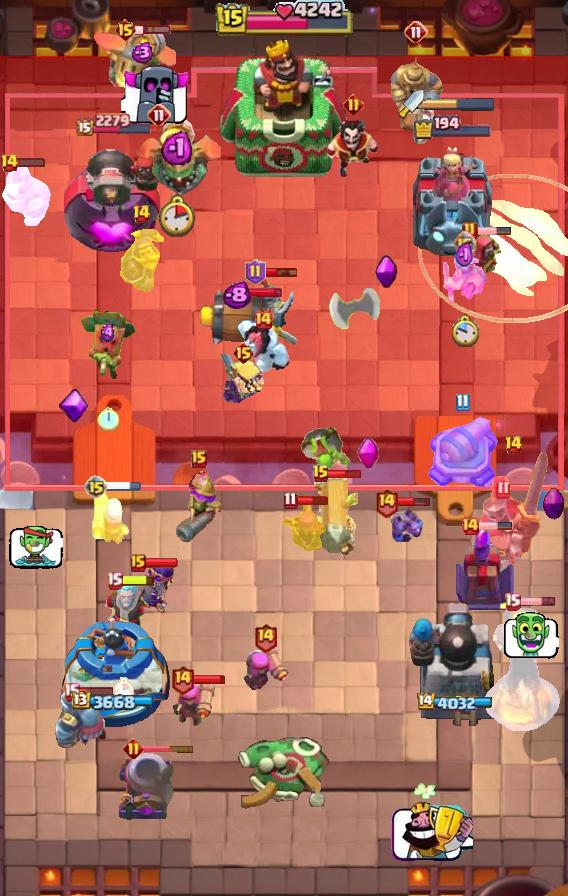archer-evolution: (276, 497, 330, 559)
axe: (329, 288, 381, 348)
bar: (232, 286, 283, 299), (141, 744, 195, 753), (106, 480, 143, 493), (120, 574, 156, 587), (135, 24, 172, 36), (143, 557, 179, 569), (263, 266, 299, 278), (396, 496, 431, 508), (328, 468, 363, 480), (78, 686, 115, 697), (519, 596, 556, 607), (10, 157, 46, 168), (192, 674, 226, 685), (295, 495, 329, 506), (477, 521, 513, 531), (476, 226, 512, 236)
bar-level: (170, 664, 195, 695), (253, 622, 278, 653), (374, 487, 399, 518), (84, 475, 108, 499), (147, 103, 171, 127), (404, 20, 428, 44), (232, 341, 255, 365), (114, 18, 137, 42), (245, 259, 266, 285), (453, 231, 476, 254), (123, 738, 144, 759), (343, 94, 364, 115), (460, 516, 480, 536), (253, 310, 273, 330), (504, 435, 523, 455), (132, 204, 151, 224), (0, 153, 19, 173), (312, 464, 330, 484), (63, 682, 80, 701), (504, 592, 521, 611), (106, 571, 123, 590), (462, 221, 478, 241), (130, 554, 146, 572), (191, 450, 207, 468), (283, 491, 298, 510), (455, 393, 470, 412)
barbarian-barrel: (196, 288, 276, 348)
barbarian-evolution: (220, 354, 266, 403)
bomber-evolution: (126, 560, 176, 614)
cannoneer-tower: (62, 138, 166, 256), (408, 599, 498, 731)
clock: (158, 194, 195, 237), (450, 314, 479, 349), (97, 406, 119, 431), (113, 677, 134, 701)
dagger-duchess-tower: (409, 142, 497, 256)
dagger-duchess-tower-bar: (424, 97, 496, 111)
dart-goblin: (79, 305, 137, 383)
electro-wizard: (325, 117, 381, 181)
elixir: (161, 129, 192, 165), (222, 281, 251, 310), (455, 241, 474, 270), (129, 42, 154, 63), (99, 323, 117, 342)
emote: (389, 800, 473, 864), (121, 62, 193, 126), (503, 612, 559, 659), (9, 526, 63, 569)
evolution-symbol: (57, 387, 90, 425), (374, 255, 398, 291), (356, 437, 380, 472), (543, 487, 565, 521)
firecracker: (241, 641, 290, 693), (90, 488, 132, 546), (173, 676, 218, 726)
goblin-ball: (299, 425, 353, 473)
guard: (234, 274, 300, 346)
ice-wizard: (85, 577, 161, 653)
king-tower: (218, 37, 350, 181)
king-tower-bar: (214, 0, 354, 39)
knight-evolution: (119, 227, 164, 295)
mega-minion: (54, 688, 110, 748), (0, 166, 54, 226)
minion: (383, 501, 423, 549)
mortar-evolution: (116, 753, 180, 823)
musketeer: (171, 468, 227, 546)
queen-tower: (55, 614, 174, 731)
spear-goblin: (440, 256, 488, 308)
tower-bar: (413, 115, 493, 140), (75, 112, 153, 136), (72, 691, 156, 712), (415, 693, 492, 713)
wizard: (463, 233, 505, 279)
